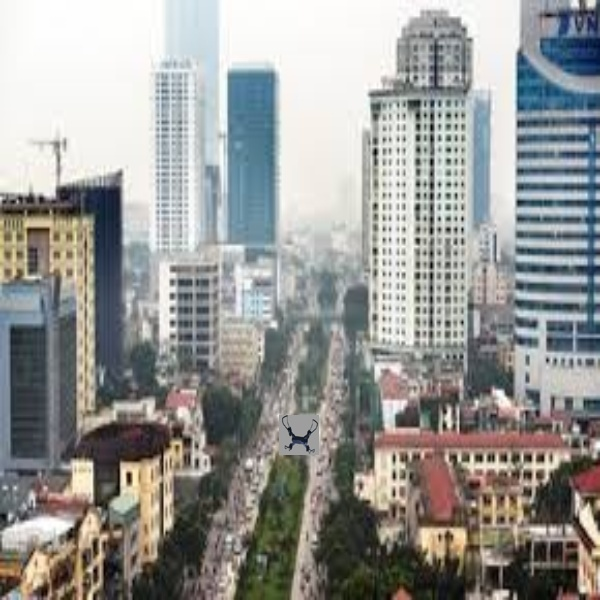drone: (277, 411, 324, 456)
